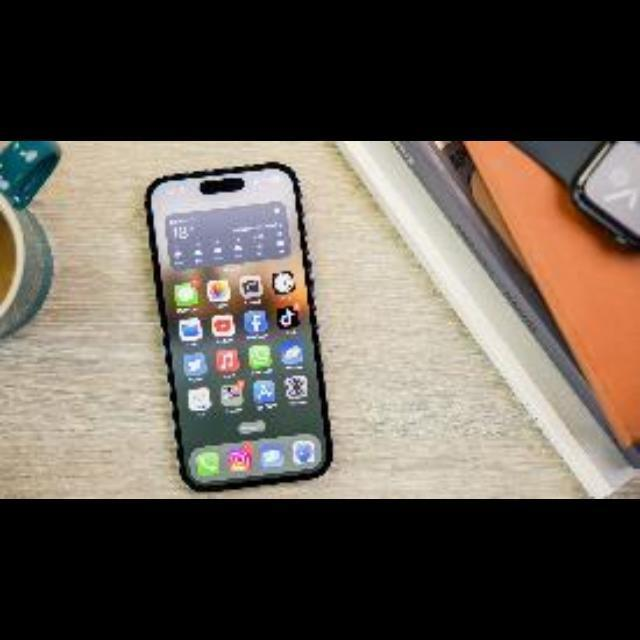PhoneUse: (143, 160, 331, 494)
